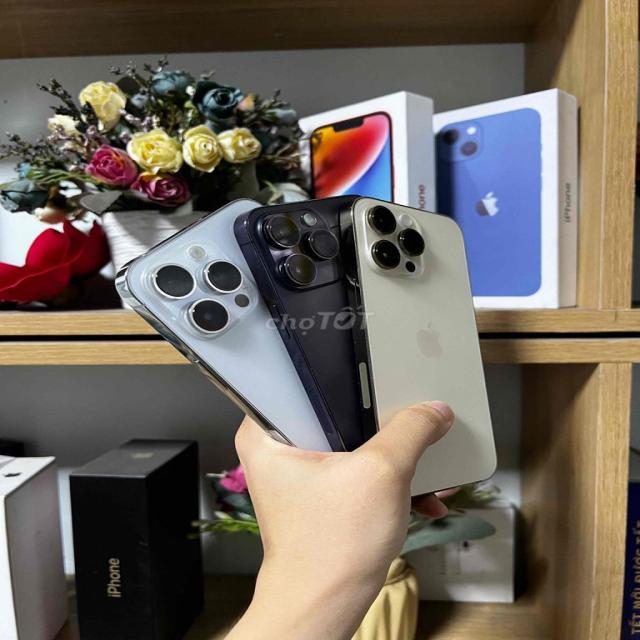gen_14: (333, 187, 508, 502)
